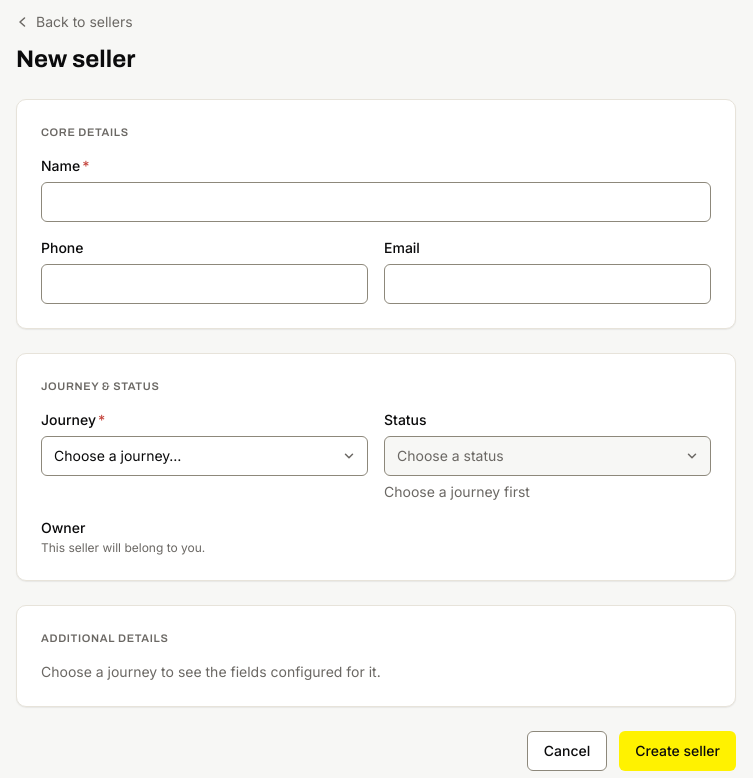
Test case: lead form editMode rendering › renders calculated and system fields as read-only from the start
Select "Journey Alpha" in the dropdown labelled "Journey*" at [204, 456], box [41, 436, 368, 476]
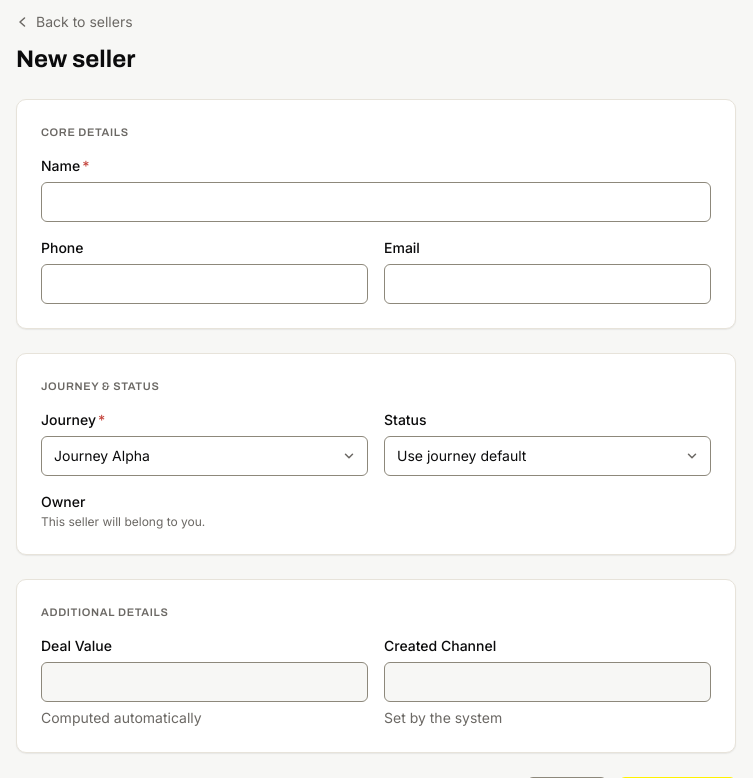
Expected: the field labelled "Created Channel" is disabled, [384, 662, 711, 702]
Now the number field labelled "Deal Value" is disabled, box [41, 662, 368, 702]
